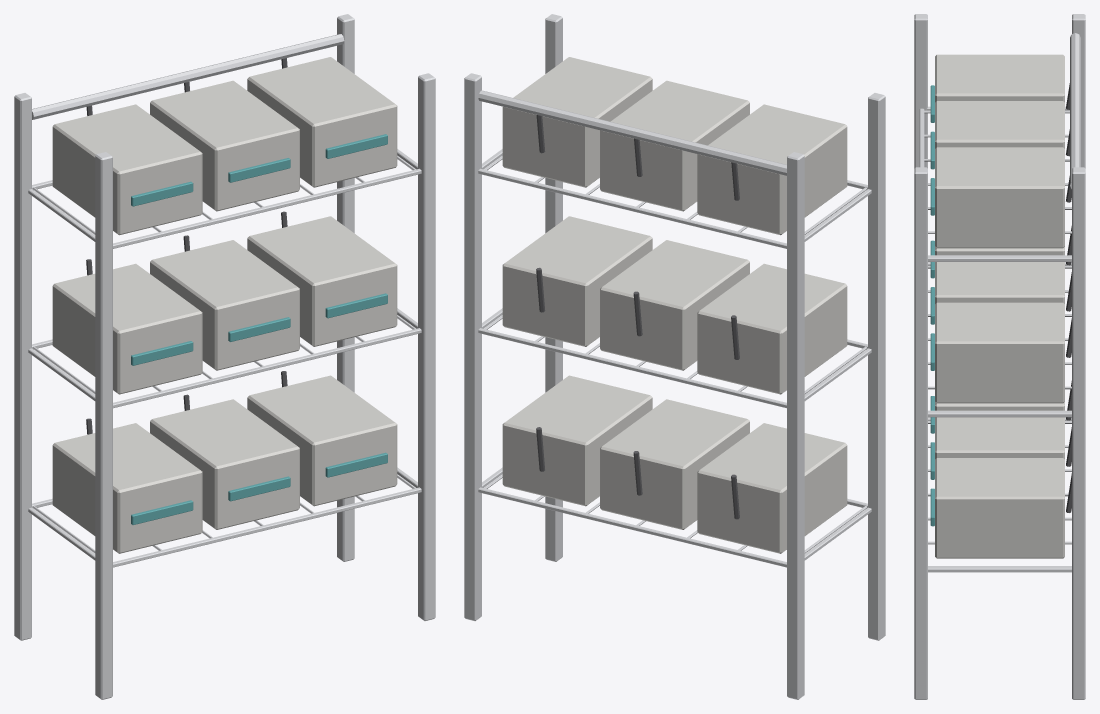
File: fast-food-and-drive-thru-syrup-rack-back-room-f78e5964__16159.glb
The picture shows the model from 3 angles, left to right: view 1: azimuth 30°, elevation 25°; view 2: azimuth 150°, elevation 25°; view 3: azimuth 270°, elevation 25°; orthographic projection. The views are drawn at different scales.
Visible parts, largest first — view 1: syrup-rack-back-room; view 2: syrup-rack-back-room; view 3: syrup-rack-back-room.
Boxes of the visible parts, box(x1,y1,x2,y2) form: syrup-rack-back-room: box(14, 14, 435, 699); syrup-rack-back-room: box(464, 14, 885, 699); syrup-rack-back-room: box(914, 14, 1085, 699).
Bounding box in the file's own units: 1.1 × 1.7 × 0.5.
